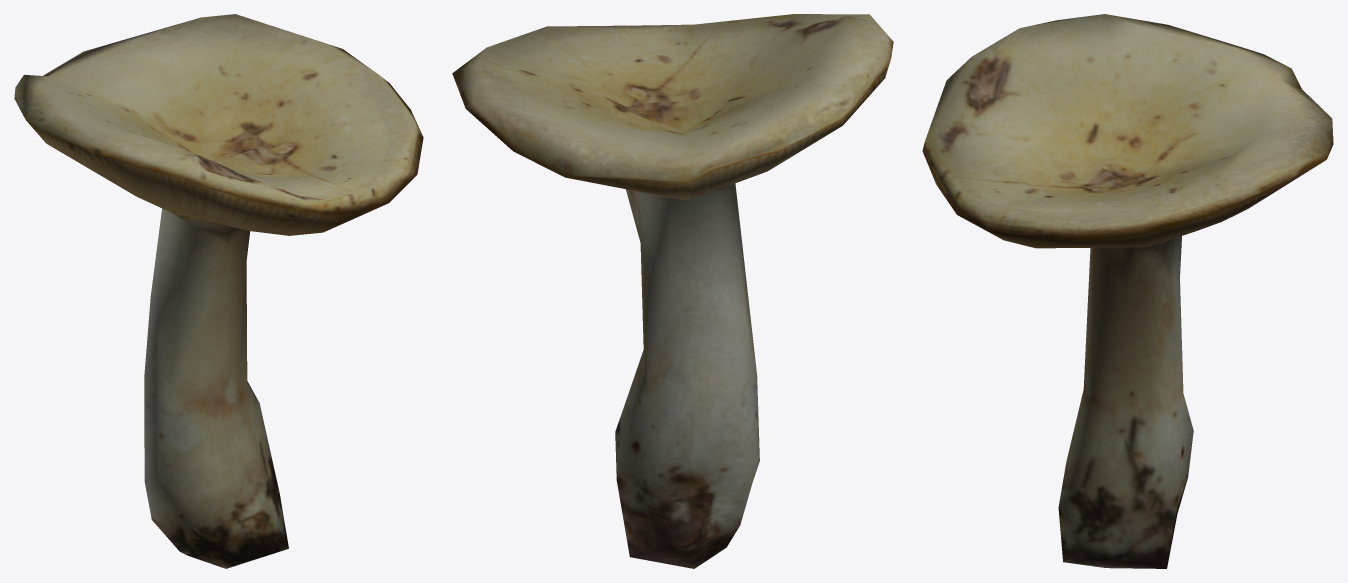
File: Russula_claroflava_01.FBX
3 views of the same model, side by side, from view 1: azimuth 30°, elevation 25°; view 2: azimuth 150°, elevation 25°; view 3: azimuth 270°, elevation 25° (orthographic). The views are drawn at different scales.
Parts seen in each view (by area): view 1: Russula_claroflava_01_LOD0; view 2: Russula_claroflava_01_LOD0; view 3: Russula_claroflava_01_LOD0.
Boxes of the visible parts, x1,y1,x2,y2 form: Russula_claroflava_01_LOD0: (14, 14, 423, 568); Russula_claroflava_01_LOD0: (452, 14, 893, 568); Russula_claroflava_01_LOD0: (922, 14, 1333, 568).
Size of what is drawn, in the model's own units: 167 by 219 by 171.
